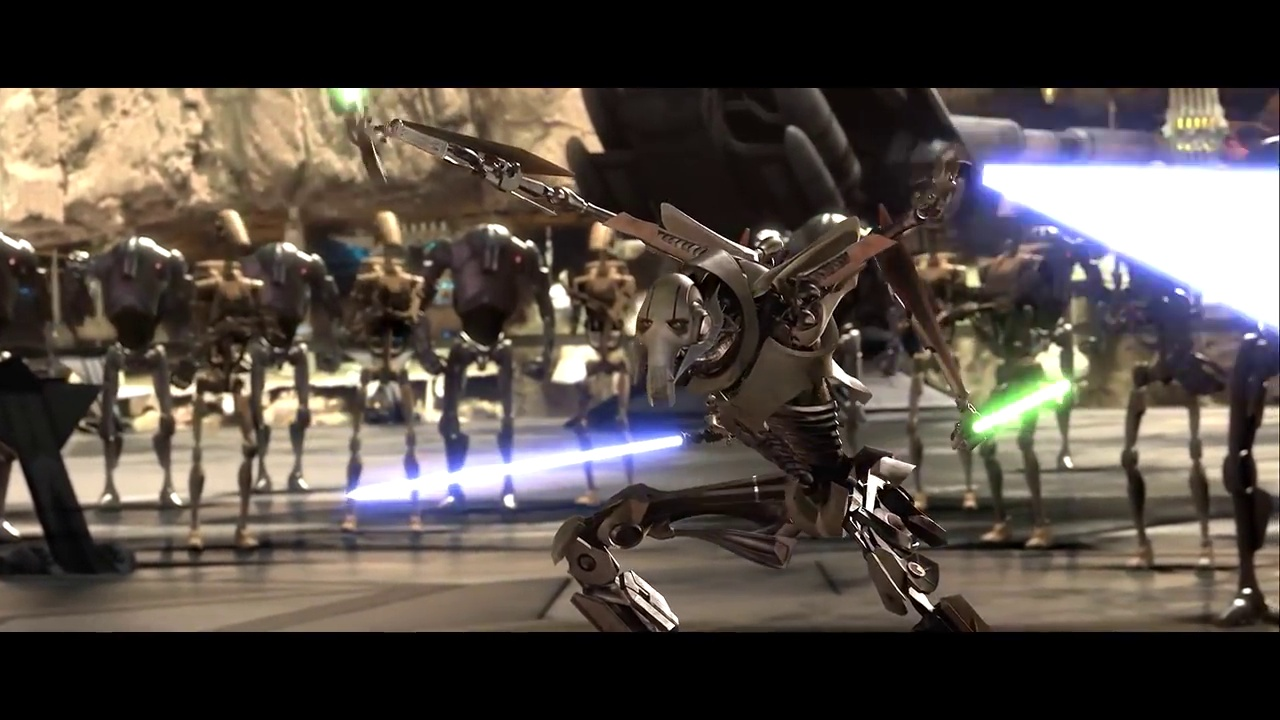lightsaber: (344, 414, 715, 516), (954, 370, 1077, 457)
